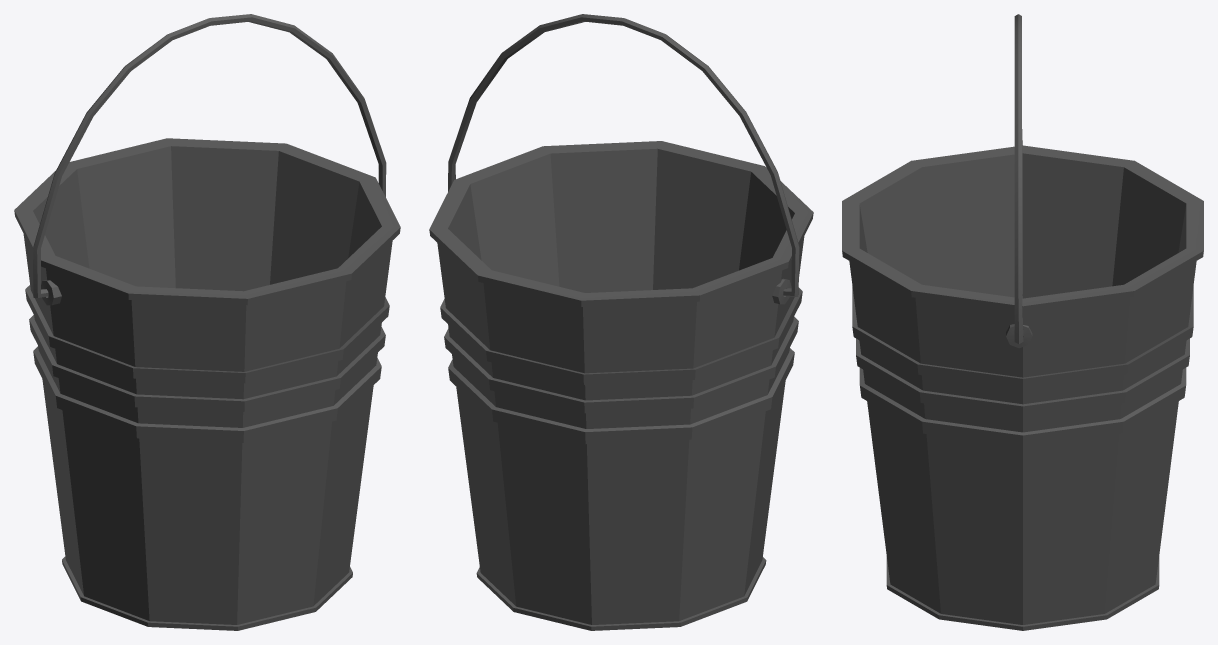
The model's file is bucket_empty.glb.
3 renders of one model, left to right at view 1: azimuth 30°, elevation 25°; view 2: azimuth 150°, elevation 25°; view 3: azimuth 270°, elevation 25°, orthographic. The views are drawn at different scales.
Visible parts, largest first — view 1: bucket_geo; view 2: bucket_geo; view 3: bucket_geo.
Part boxes in pixels (x1,y1,x2,y2): bucket_geo: (14,14,400,630); bucket_geo: (429,14,813,630); bucket_geo: (842,14,1203,630).
Size of the model in its own units: 0.3361 by 0.5044 by 0.3048.
Materials: 1 (1 with a texture image).
